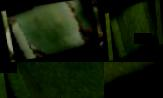Unripe: (7, 0, 97, 61), (1, 62, 104, 98), (110, 0, 157, 60), (104, 62, 163, 97)
